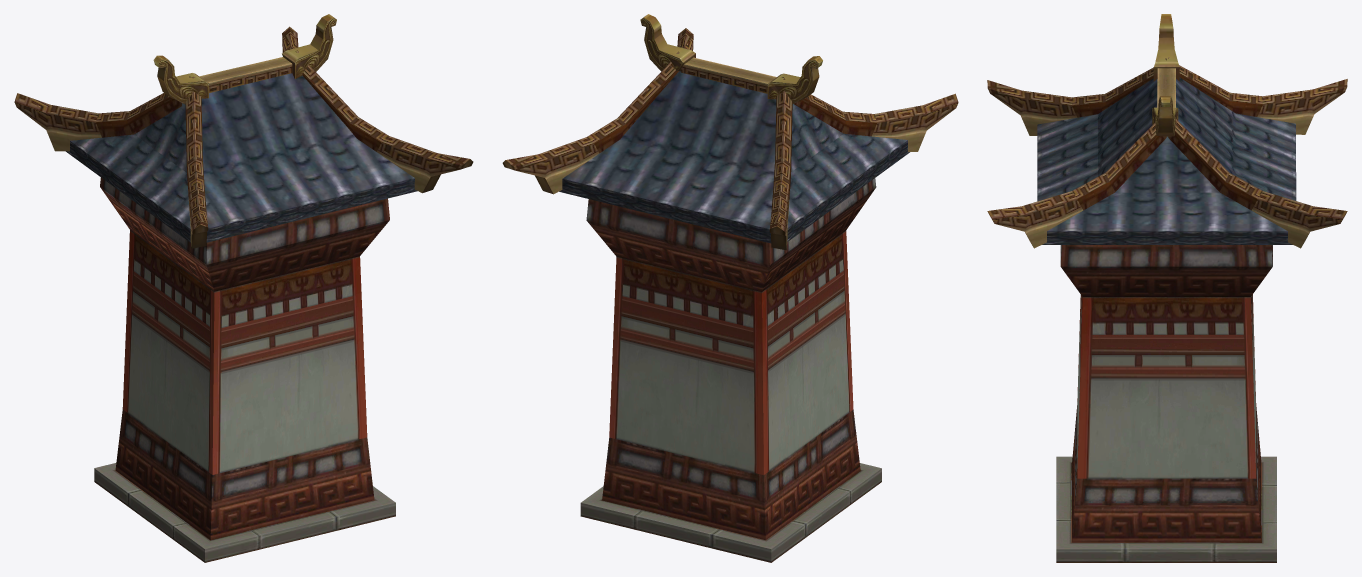
The model's file is Yland1_fz_07 Yland6.FBX.
The picture shows the model from 3 angles, left to right: view 1: azimuth 30°, elevation 25°; view 2: azimuth 150°, elevation 25°; view 3: azimuth 270°, elevation 25°; orthographic projection.
Visible parts, largest first — view 1: Yland1_fz_07 Yland6; view 2: Yland1_fz_07 Yland6; view 3: Yland1_fz_07 Yland6.
Part boxes in pixels (box(x1,y1,x2,y2)): Yland1_fz_07 Yland6: box(14, 14, 473, 562); Yland1_fz_07 Yland6: box(502, 14, 958, 562); Yland1_fz_07 Yland6: box(987, 14, 1347, 562).
Size of the model in its own units: 2.64 by 4.12 by 2.92.
